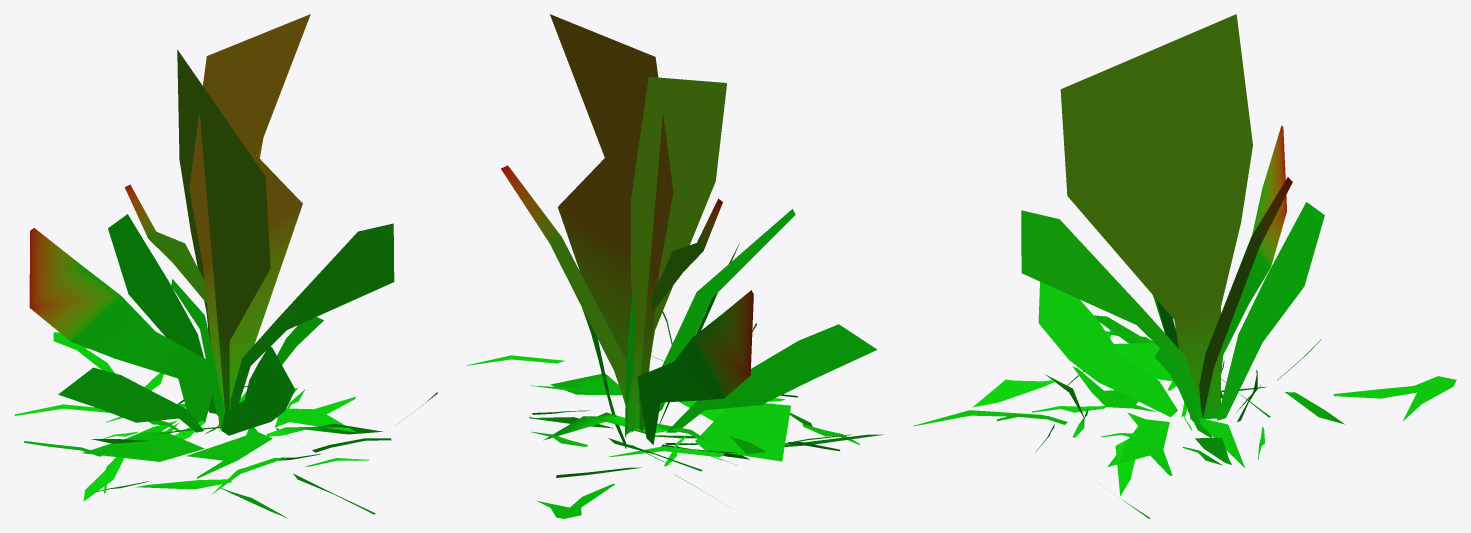
Rendered from Dead Shrubs_LOD1_Var10_vdknafgha.fbx.
3 views of the same model, side by side, from view 1: azimuth 30°, elevation 25°; view 2: azimuth 150°, elevation 25°; view 3: azimuth 270°, elevation 25° (orthographic). The views are drawn at different scales.
Visible parts, largest first — view 1: _ym4t_Var10_LOD1; view 2: _ym4t_Var10_LOD1; view 3: _ym4t_Var10_LOD1.
Boxes of the visible parts, bbox=[...] form: _ym4t_Var10_LOD1: bbox=[14, 14, 437, 518]; _ym4t_Var10_LOD1: bbox=[467, 14, 883, 518]; _ym4t_Var10_LOD1: bbox=[913, 14, 1456, 518].
Size of the model in its own units: 26.54 by 26.11 by 29.99.
